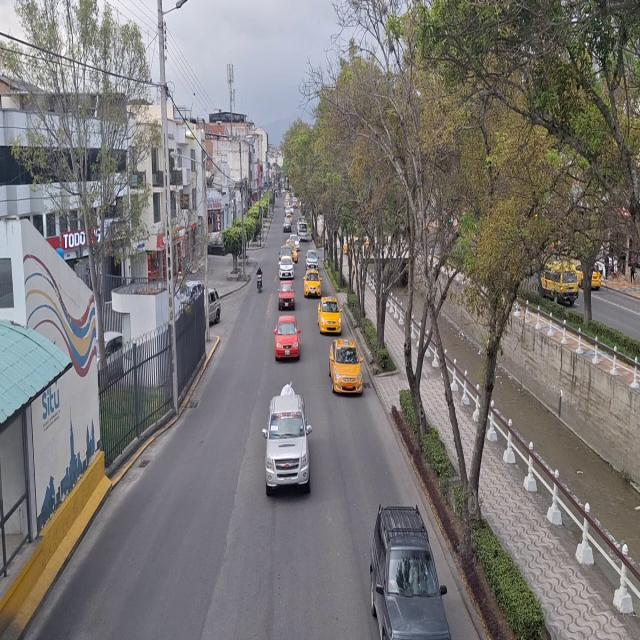CMT: (266, 389, 307, 492), (278, 280, 294, 309)
SED: (332, 343, 363, 393), (276, 320, 300, 360)
SUV: (372, 507, 448, 640)
